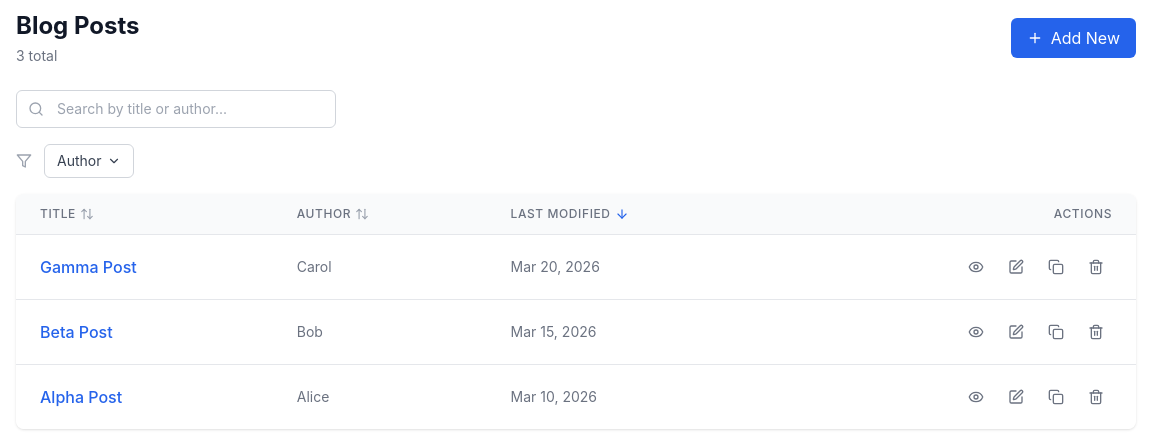
Test case: EntityListPage › clear button resets search
Type "Alpha" into the field with test id "search-input" at (176, 109), box x1=16 y1=90 x2=336 y2=128
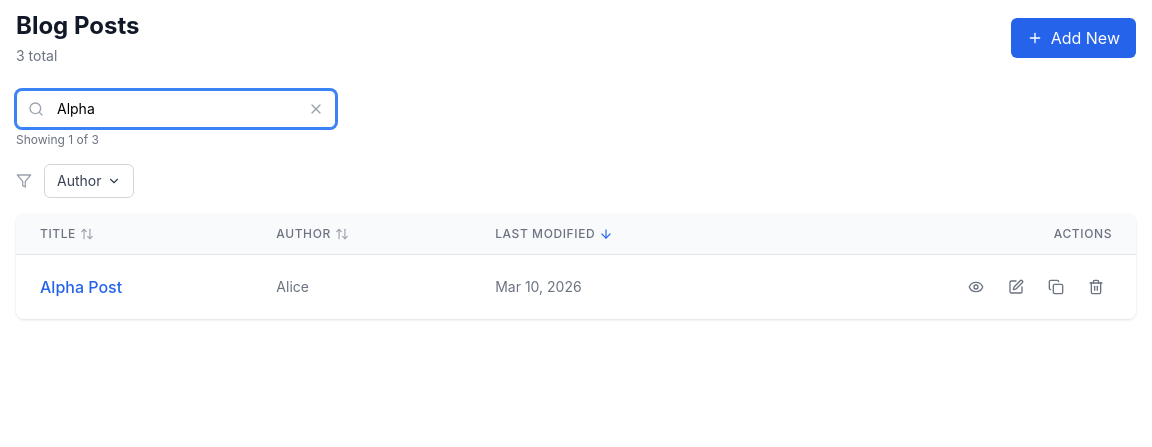
Now the link "Beta Post" is gone
Click the button with test id "search-clear" at (316, 109), box x1=308 y1=101 x2=324 y2=117
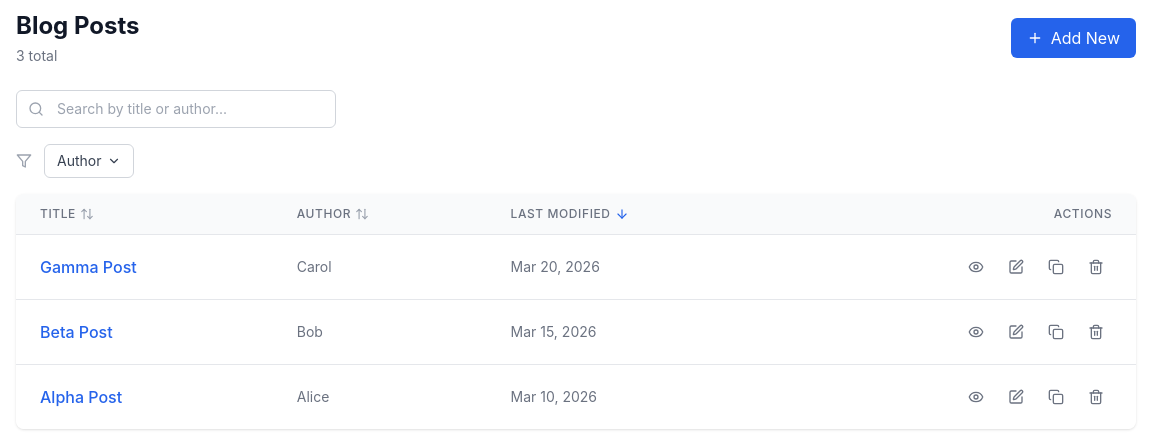
Expected: the link "Alpha Post" is shown, x1=40 y1=385 x2=122 y2=409
Now the link "Beta Post" is shown, box x1=40 y1=320 x2=113 y2=344
Now the text with test id "filter-count" is gone
